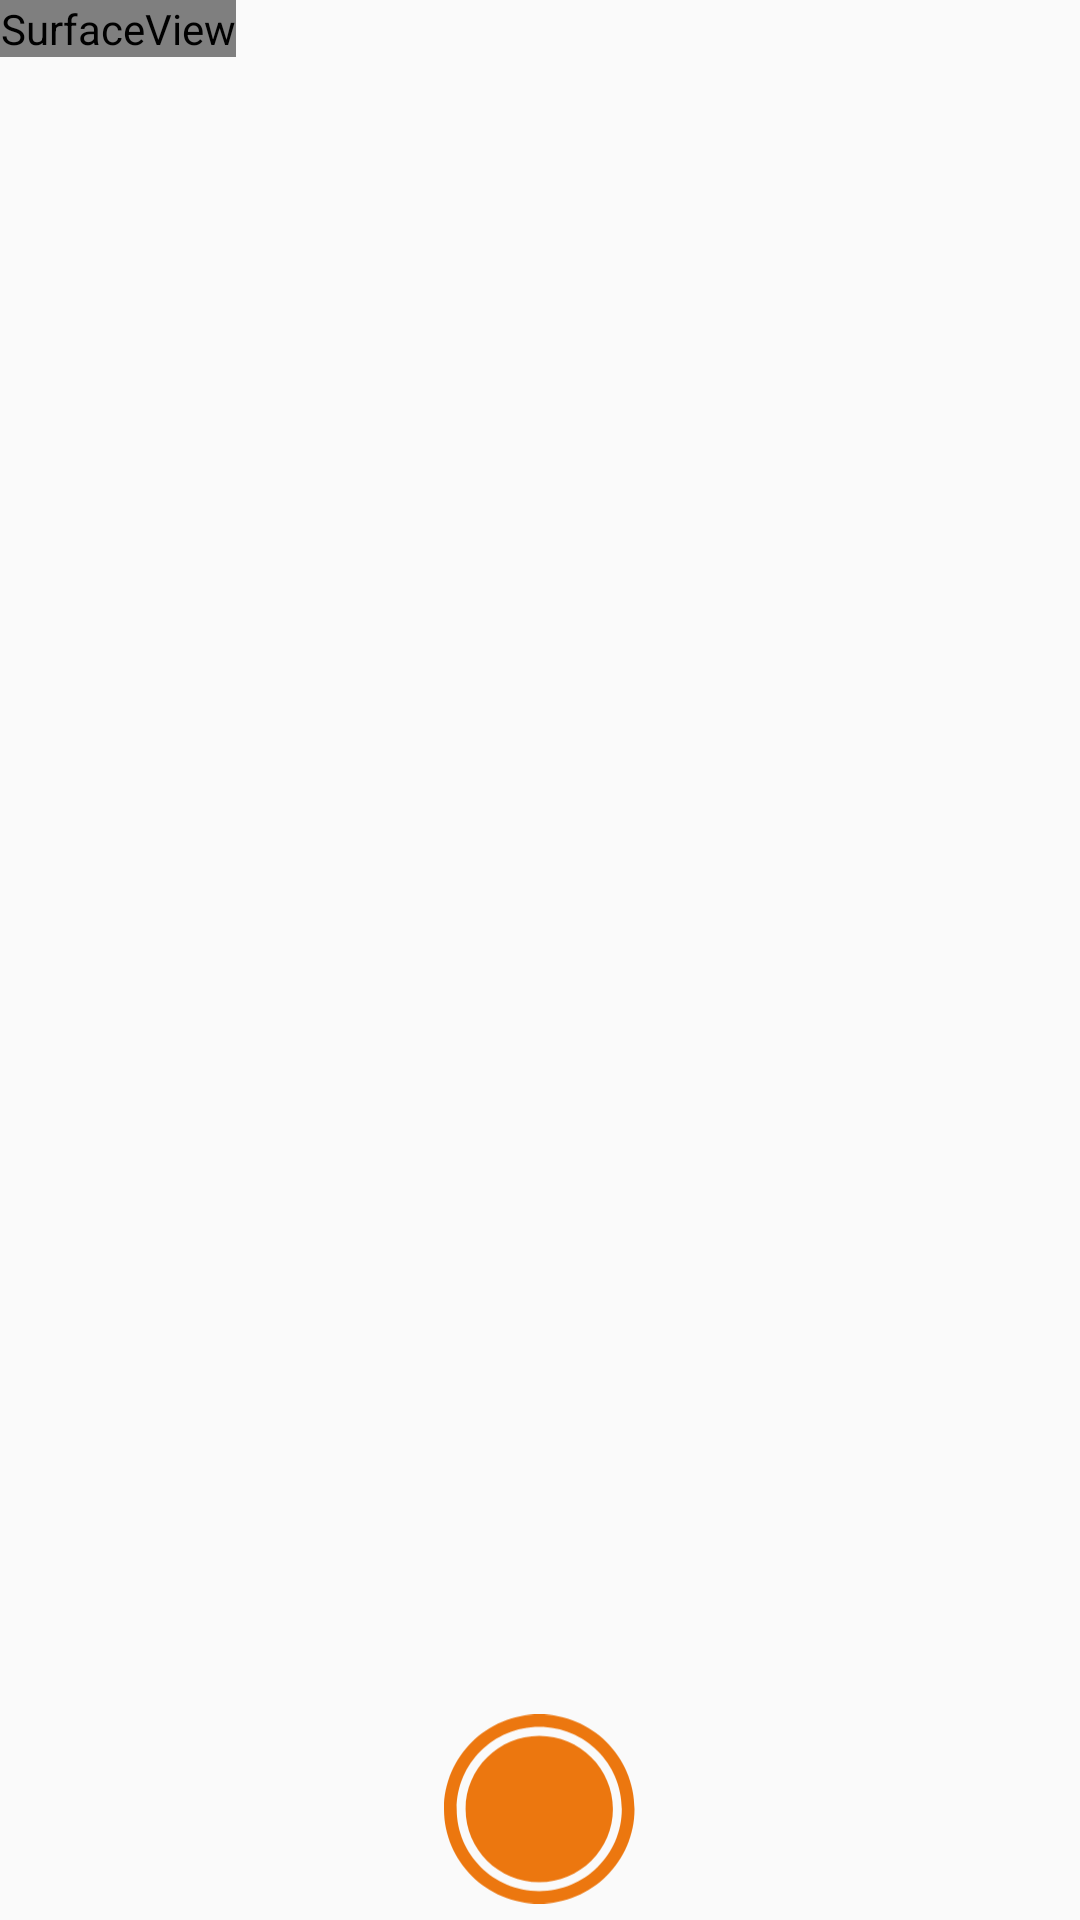

Icon bounding boxes for this 1080 × 1920 phone screenshot, format {"x1": x1, "y1": y1, "x2": x2, "y2": y2}:
capture: {"x1": 444, "y1": 1714, "x2": 635, "y2": 1904}
